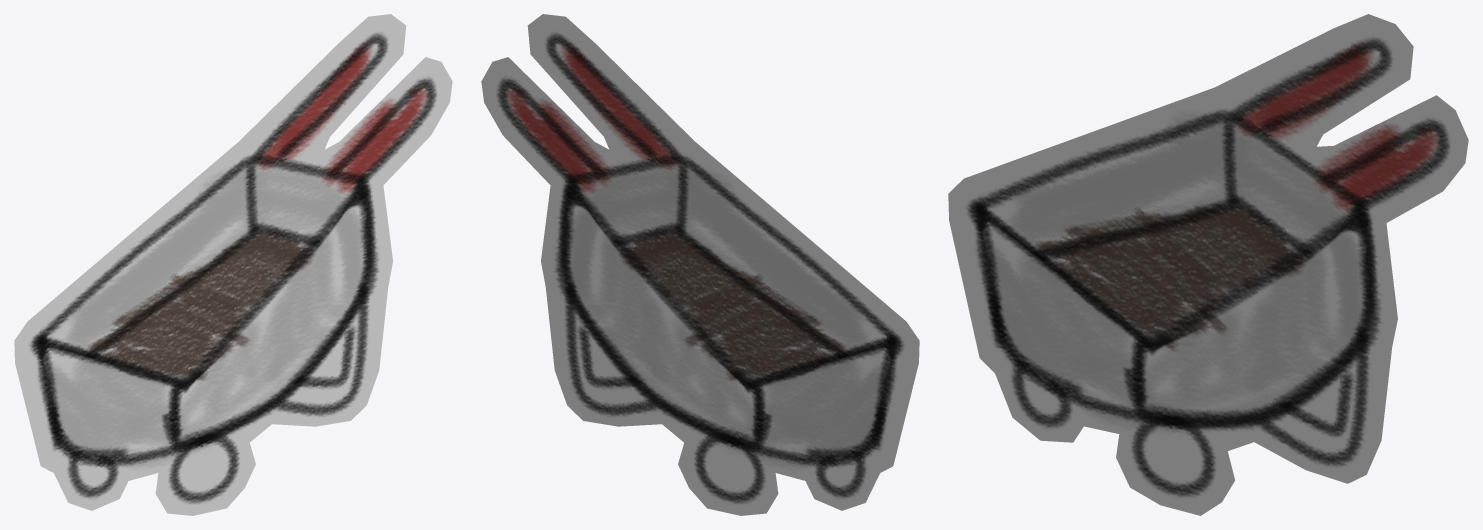
Rendered from Vagn.fbx.
3 renders of one model, left to right at view 1: azimuth 30°, elevation 25°; view 2: azimuth 150°, elevation 25°; view 3: azimuth 330°, elevation 25°, orthographic. The views are drawn at different scales.
Parts seen in each view (by area): view 1: Karra; view 2: Karra; view 3: Karra.
Part boxes in pixels (box(x1,y1,x2,y2)): Karra: box(14, 14, 452, 515); Karra: box(481, 14, 919, 515); Karra: box(948, 14, 1468, 515).
Bounding box in the file's own units: 85.38 × 85.11 × 1.39e-05.
Materials: 1 (1 with a texture image).
